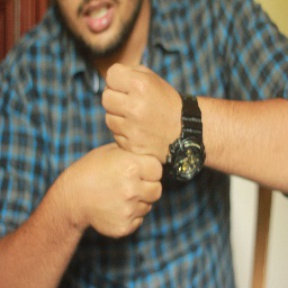G: (73, 56, 184, 243)
